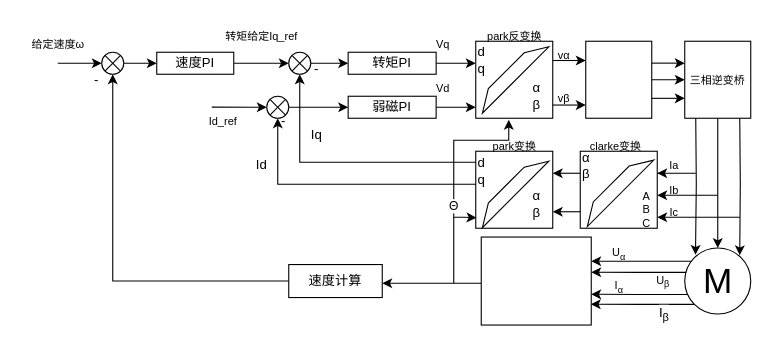
Some shapes in this 770 by 360 pixel diagram are drawn without their labels. Each missing label, with the box of its shape:
Clarke反变换/SVPWM: (585, 40, 652, 118)
滑模观测器: (480, 236, 591, 325)
